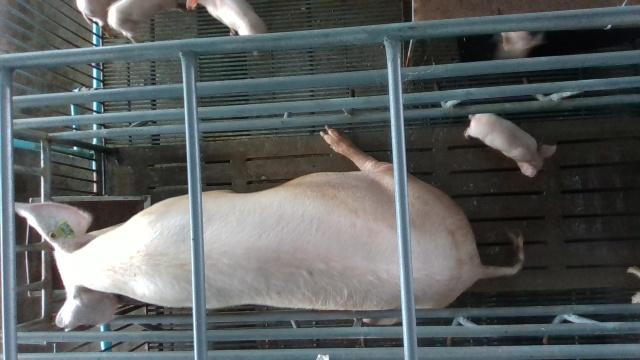piglet: (465, 111, 556, 177), (186, 0, 268, 55), (107, 0, 185, 44), (492, 28, 544, 60)
sow-sit: (17, 127, 525, 328)
